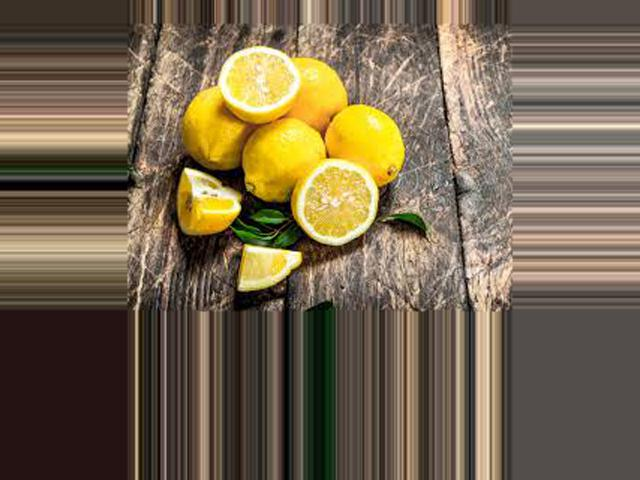lemon: (178, 92, 255, 176)
